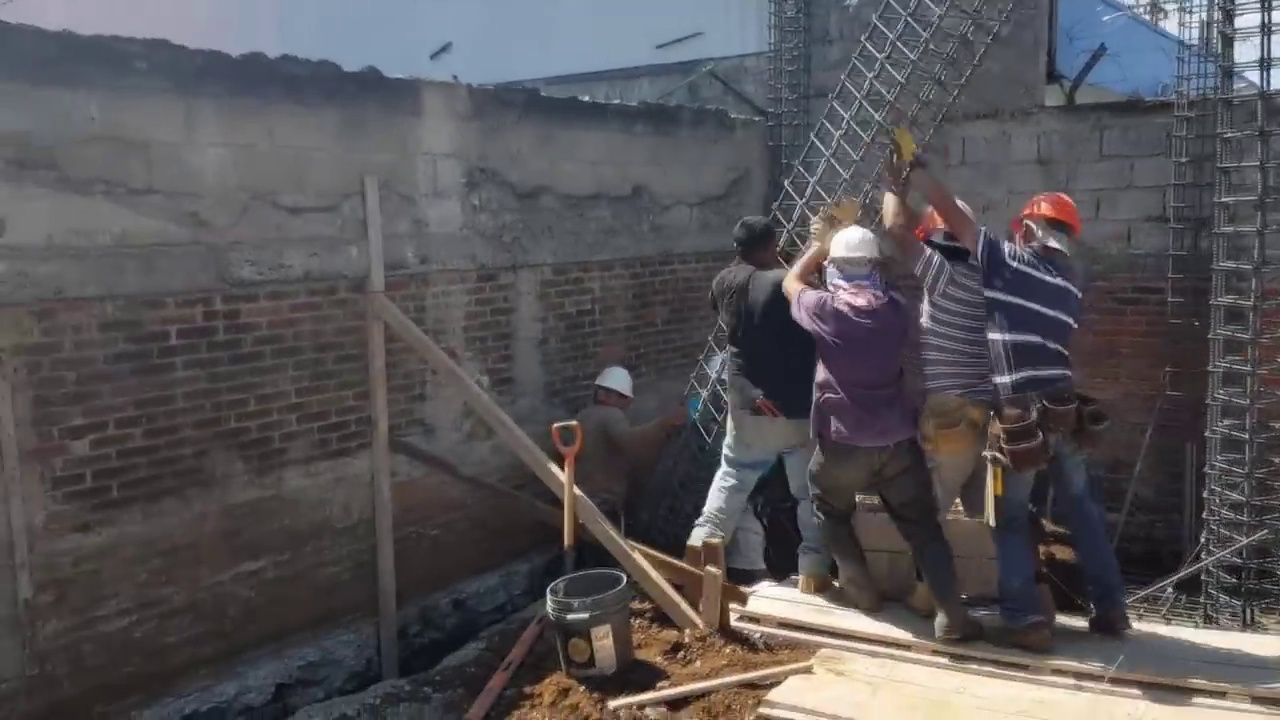helmet: (1013, 191, 1091, 249), (925, 198, 975, 252), (825, 219, 884, 264), (592, 365, 634, 401)
helmet-off: (880, 119, 929, 205), (731, 216, 785, 268)
helmet-on: (1010, 187, 1087, 273), (824, 228, 884, 310), (926, 195, 976, 268), (586, 365, 635, 417)
person: (930, 173, 1104, 640), (800, 203, 949, 647), (892, 152, 1009, 614), (691, 205, 825, 606), (545, 359, 669, 562)
